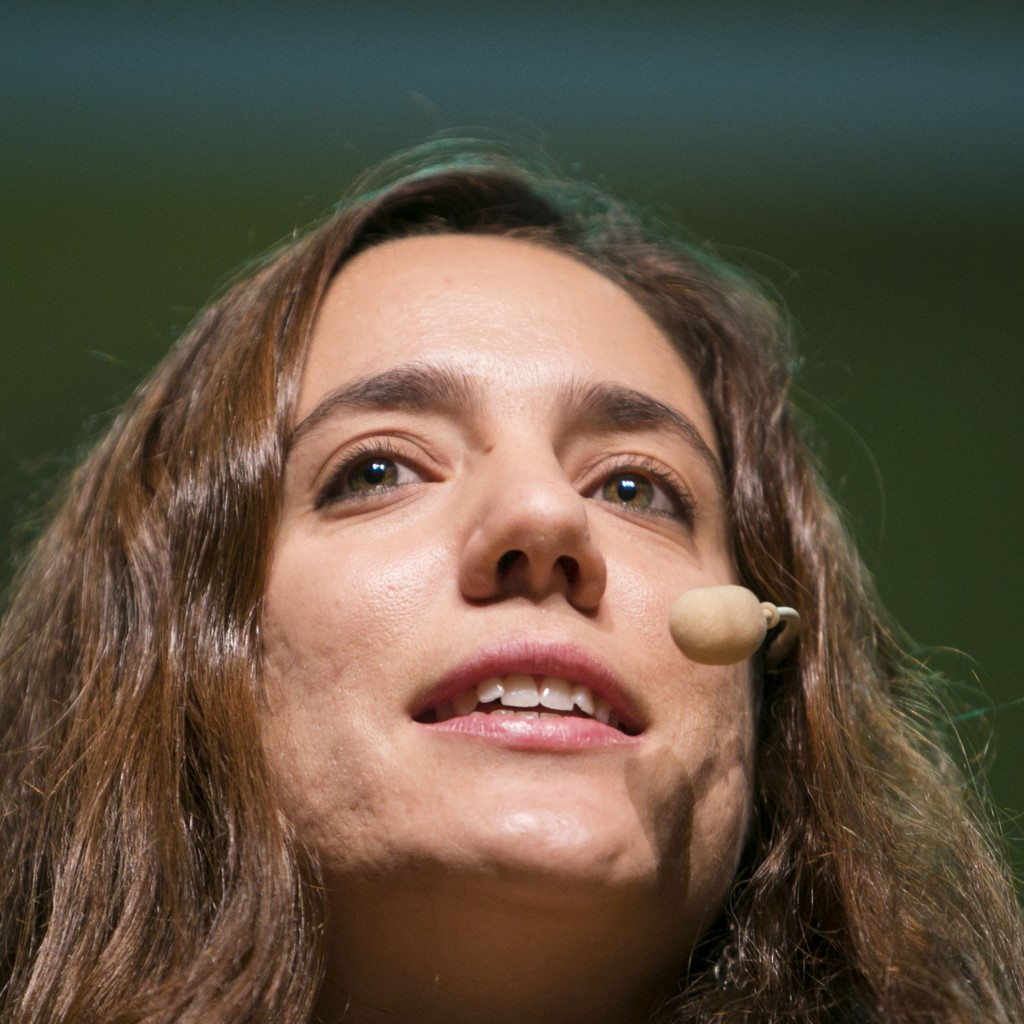sin_mascara: (197, 208, 760, 967)
